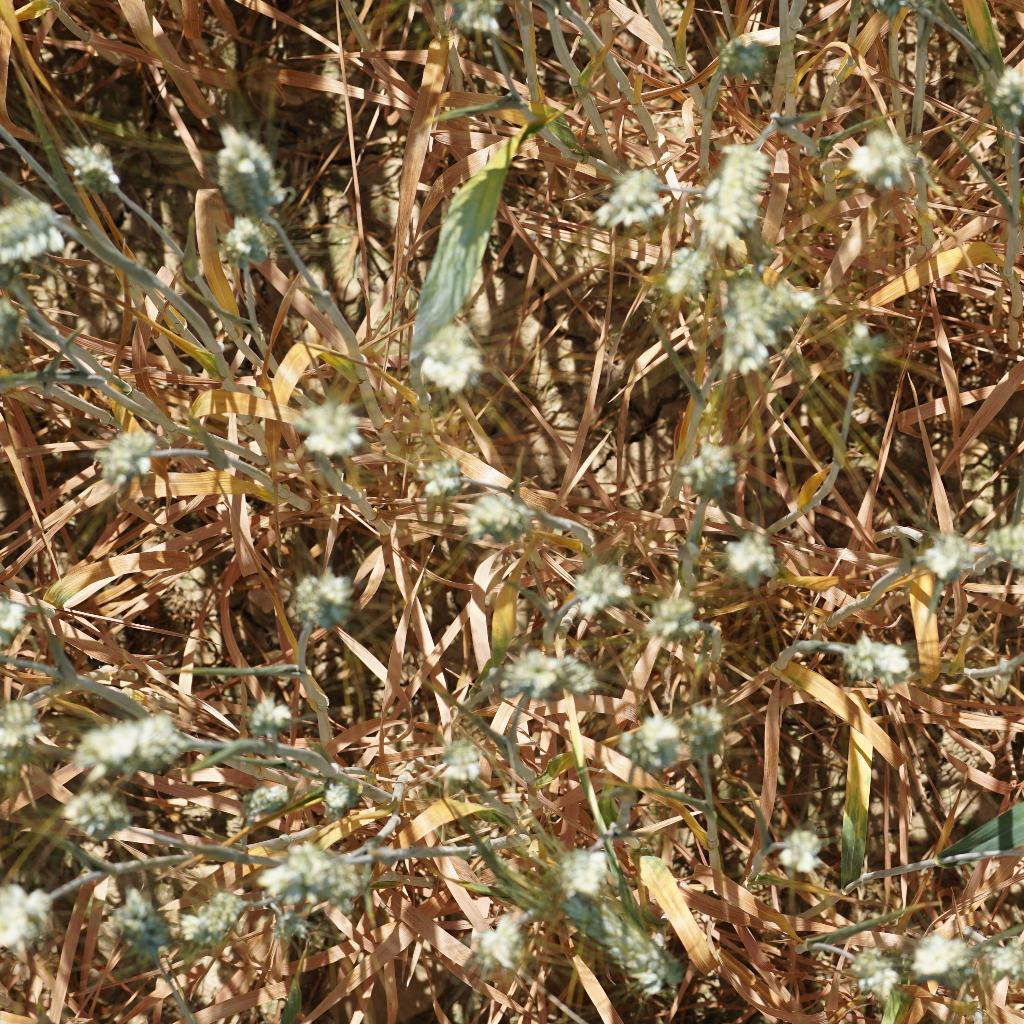0-0: (565, 885, 701, 1008), (699, 123, 783, 246), (249, 838, 370, 918), (707, 258, 780, 370), (67, 710, 202, 768), (488, 635, 593, 707), (703, 8, 811, 77), (845, 112, 930, 198), (89, 882, 169, 972), (209, 126, 287, 217), (0, 192, 89, 271), (288, 393, 374, 463), (0, 690, 68, 777), (597, 153, 672, 231), (175, 882, 256, 948), (459, 481, 541, 546), (422, 324, 492, 400), (96, 415, 165, 490), (291, 563, 365, 631), (709, 524, 788, 585), (0, 875, 66, 948), (836, 631, 923, 686), (616, 707, 684, 777), (899, 915, 975, 976), (823, 309, 892, 376), (571, 545, 635, 617), (840, 938, 905, 1008), (677, 443, 752, 500), (909, 524, 976, 587), (773, 822, 841, 884), (212, 210, 281, 271), (647, 583, 712, 647), (477, 918, 541, 983), (550, 833, 613, 899), (650, 236, 712, 302), (679, 706, 739, 774), (64, 791, 139, 845), (58, 137, 124, 198), (223, 762, 287, 819), (451, 0, 519, 51), (403, 451, 468, 504), (430, 724, 485, 785), (968, 934, 1024, 983), (986, 59, 1024, 127), (983, 520, 1024, 582), (307, 776, 365, 815), (238, 692, 288, 735)
